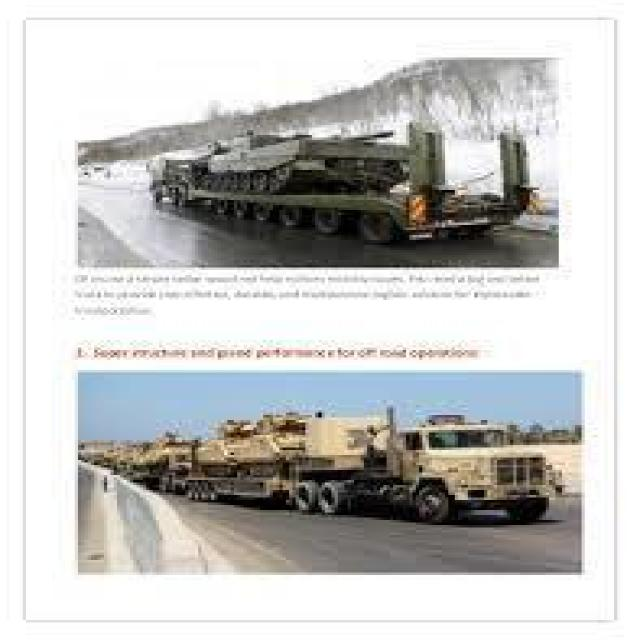Tanks: (94, 396, 572, 549), (143, 71, 539, 241)
